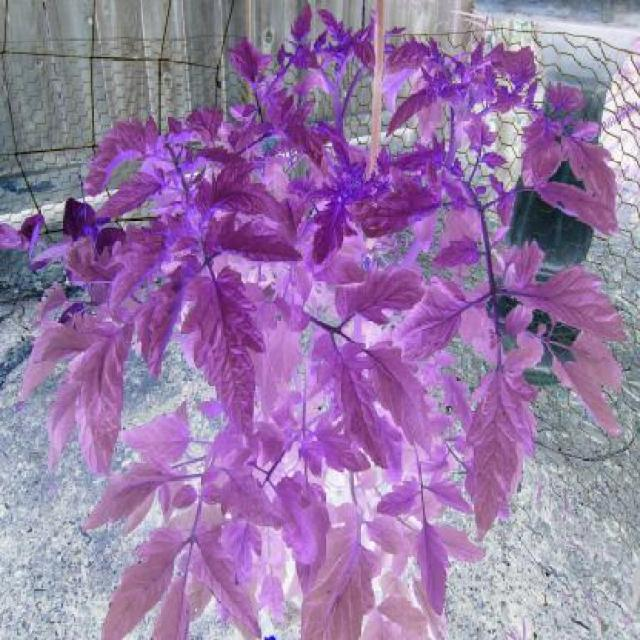Tomato leaf bacterial spot: (462, 371, 529, 560), (506, 251, 617, 354), (191, 274, 263, 429), (78, 297, 134, 483), (304, 516, 382, 636), (188, 524, 268, 638), (342, 166, 466, 237), (108, 520, 182, 638), (366, 331, 436, 455), (82, 108, 163, 206), (252, 294, 306, 431), (330, 265, 428, 340), (536, 171, 618, 258), (182, 164, 283, 233), (549, 345, 622, 440), (138, 254, 197, 369), (18, 311, 96, 397), (338, 352, 391, 477), (209, 462, 285, 548), (208, 213, 300, 284), (89, 457, 169, 537), (264, 468, 318, 572), (97, 163, 171, 237), (108, 211, 189, 275), (309, 423, 382, 492), (383, 78, 451, 151), (263, 94, 328, 169), (123, 409, 195, 468), (180, 136, 257, 190), (311, 194, 354, 275), (214, 233, 308, 264), (226, 37, 271, 94), (425, 234, 486, 272)
